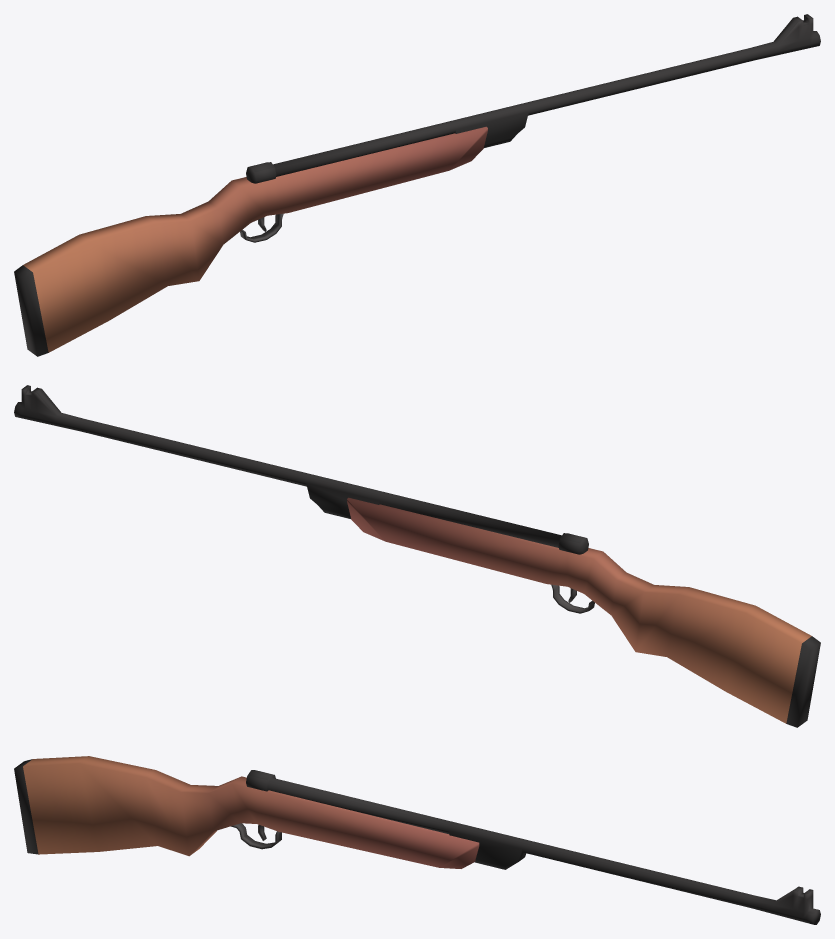
File: pellet_gun.fbx
The picture shows the model from 3 angles, top to bottom: view 1: azimuth 30°, elevation 25°; view 2: azimuth 150°, elevation 25°; view 3: azimuth 330°, elevation 25°; orthographic projection.
Visible parts, largest first — view 1: pellet_gun; view 2: pellet_gun; view 3: pellet_gun.
Boxes of the visible parts, bbox=[...] form: pellet_gun: bbox=[14, 14, 820, 356]; pellet_gun: bbox=[14, 385, 820, 727]; pellet_gun: bbox=[14, 756, 820, 924].
Bounding box in the file's own units: 42.86 × 7.55 × 0.9685.
